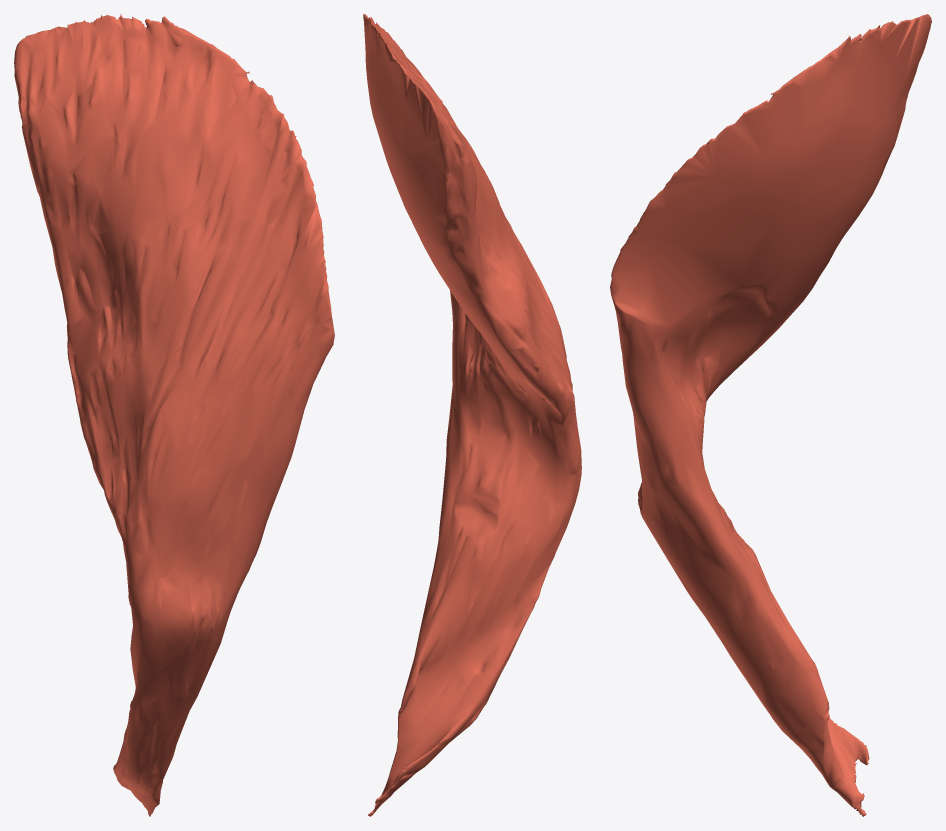
Rendered from iliacus.glb.
The picture shows the model from 3 angles, left to right: view 1: azimuth 30°, elevation 25°; view 2: azimuth 150°, elevation 25°; view 3: azimuth 270°, elevation 25°; orthographic projection. The views are drawn at different scales.
Parts seen in each view (by area): view 1: Iliacus muscle.l; view 2: Iliacus muscle.l; view 3: Iliacus muscle.l.
Boxes of the visible parts, box(x1,y1,x2,y2) form: Iliacus muscle.l: box(14, 14, 334, 816); Iliacus muscle.l: box(363, 14, 581, 816); Iliacus muscle.l: box(610, 14, 931, 816).
Size of the model in its own units: 0.0561 by 0.2317 by 0.0862.
